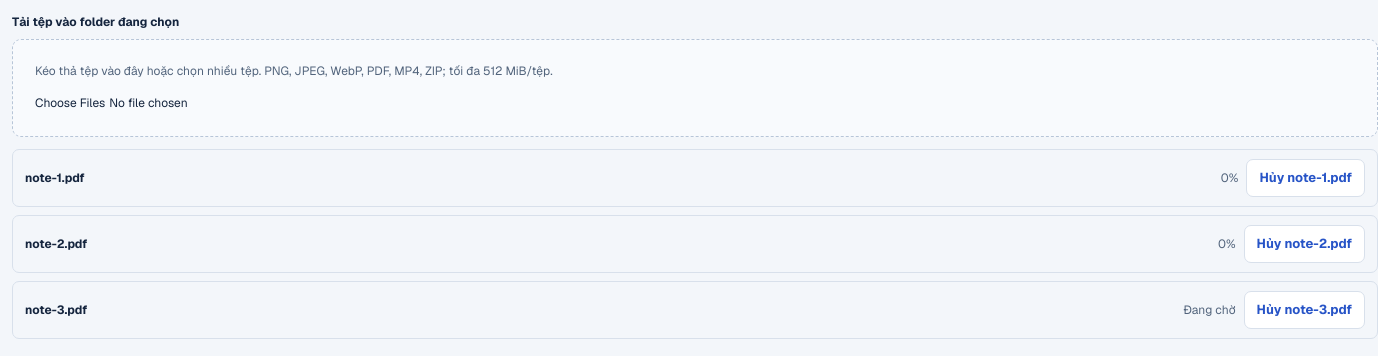
UploadPanel › can cancel a queued file before any request starts
This screenshot has width=1378, height=356.
Earlier steps of the test are not shown.
Click the button "Hủy note-3.pdf". click: (1304, 310)
box: top-left (1244, 291), bottom-right (1365, 329)
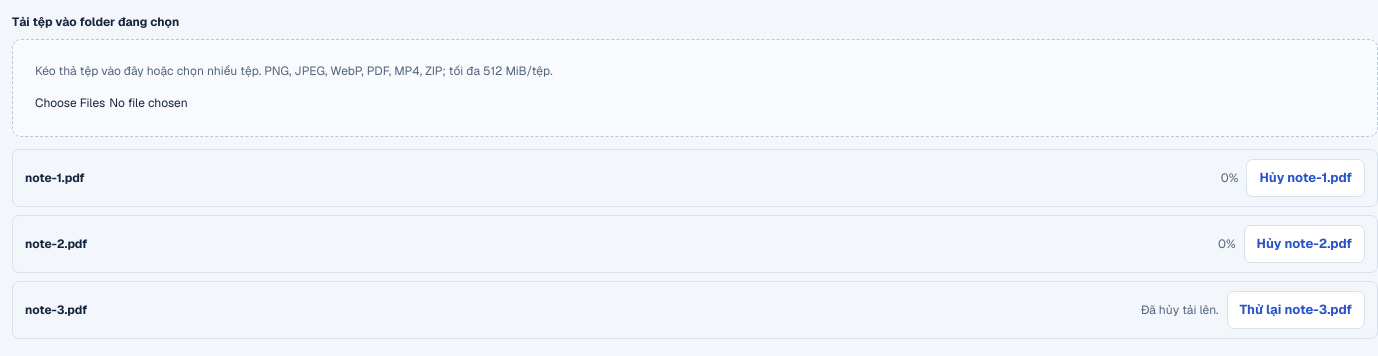
expect the text "Đã hủy tải lên." is shown: met, box top-left (1141, 301), bottom-right (1218, 319)
